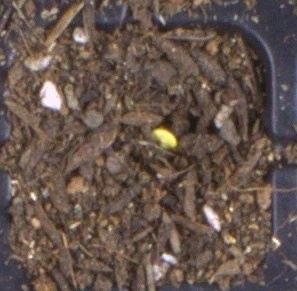chilli seed: (151, 127, 177, 149)
